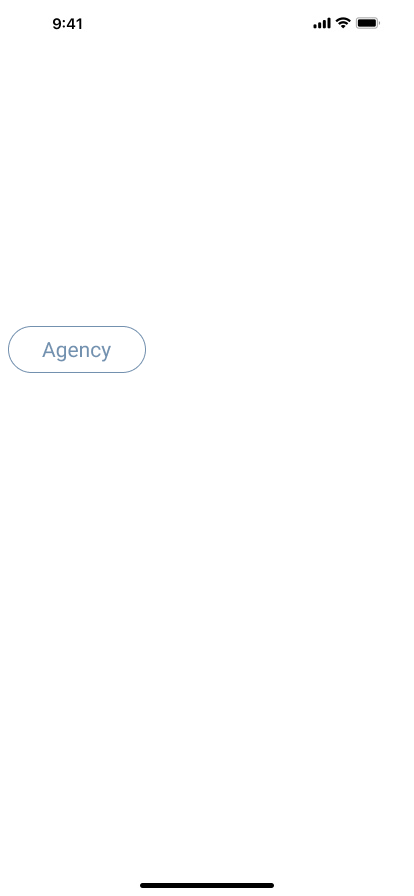Buttons: (8, 326, 154, 373)
Home Indicator: (0, 862, 414, 896)
Status Bar: (0, 0, 414, 44)
